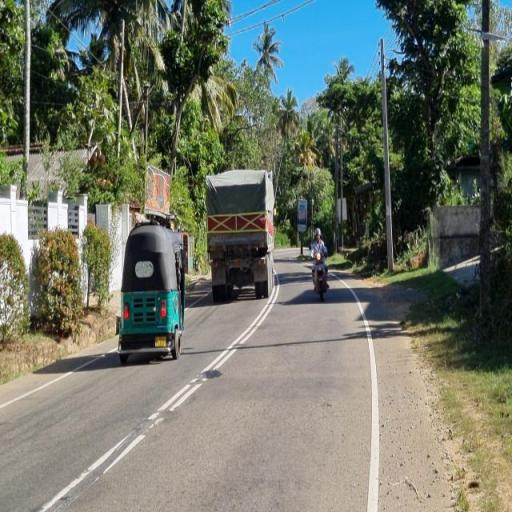double_white_line: (144, 258, 278, 431)
